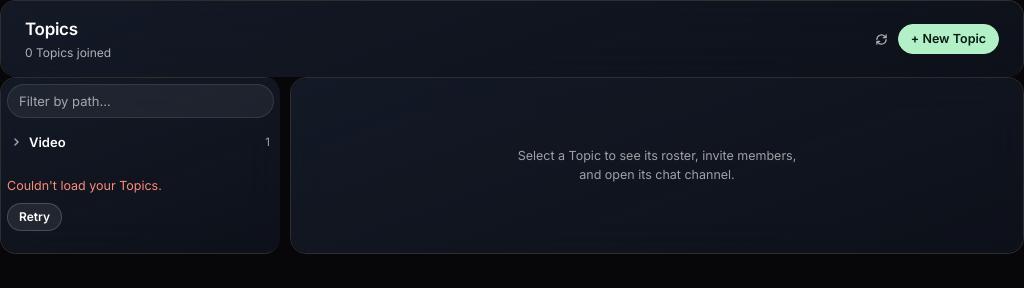
it: QURATOR-152/154 — a failed mine load never hides a painted directory › Retry on the inline notice re-fetches mine; success clears the notice and keeps the tree
The width and height of the screenshot is (1024, 288).
Click the button "Retry" at (34, 217), box [7, 203, 62, 231]
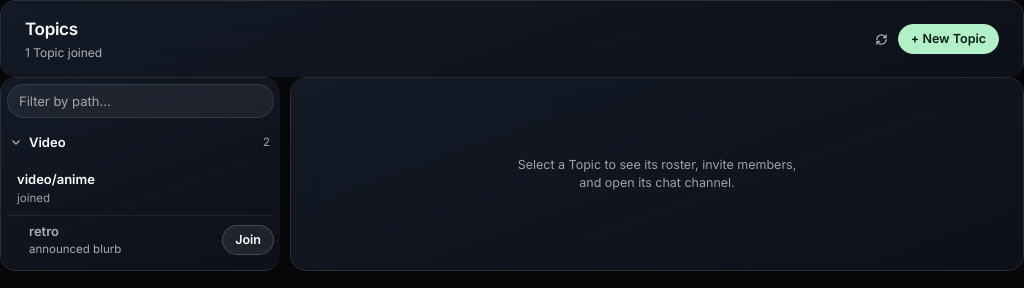
Expected: the text "video/anime" is shown, [17, 171, 95, 187]
Expected: the message "Couldn't load your Topics. Retry" is gone
Expected: the text "retro" is shown, [29, 223, 59, 239]
